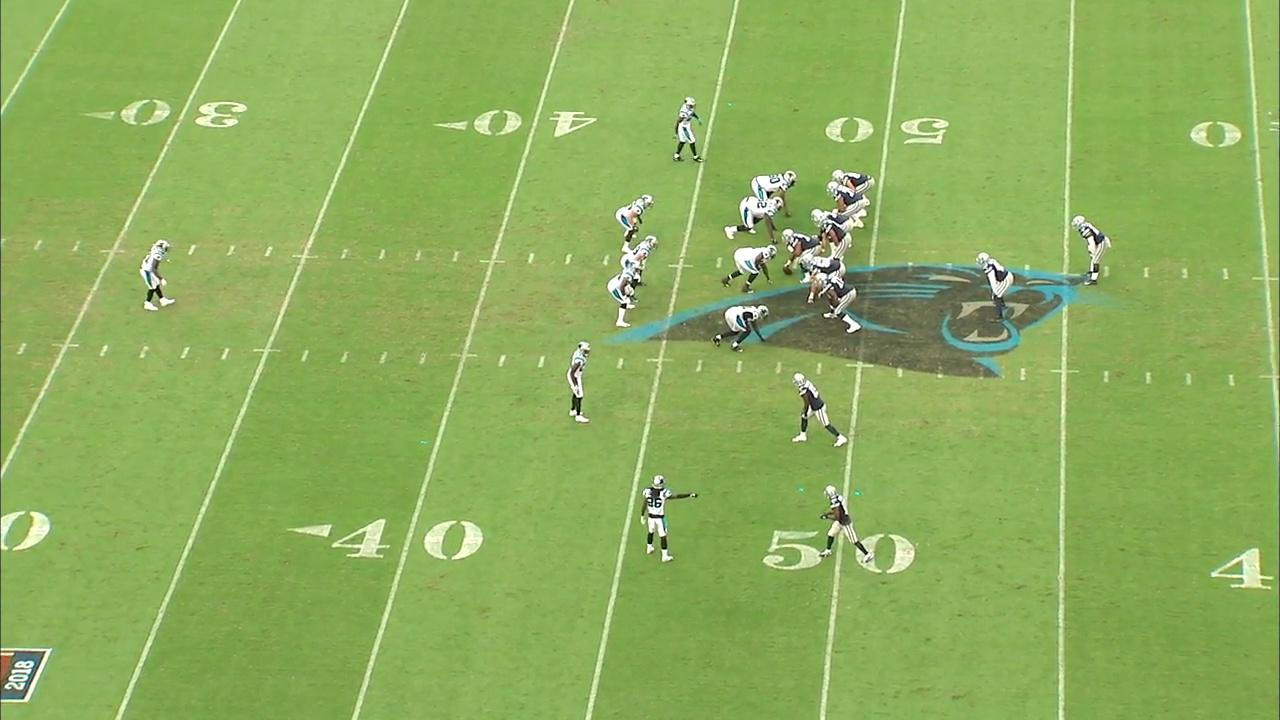player: (632, 471, 695, 563), (814, 484, 873, 565), (792, 376, 848, 449), (139, 230, 178, 319), (711, 301, 771, 354), (976, 242, 1013, 325), (1072, 212, 1108, 290), (814, 274, 860, 330), (606, 260, 643, 329), (617, 193, 659, 252), (674, 93, 709, 163), (731, 196, 785, 239), (801, 255, 845, 305), (566, 340, 592, 424), (725, 246, 777, 288), (825, 184, 867, 221), (777, 228, 820, 264), (752, 167, 797, 197), (817, 220, 851, 257), (620, 235, 659, 267), (831, 165, 877, 189), (811, 207, 853, 230)
